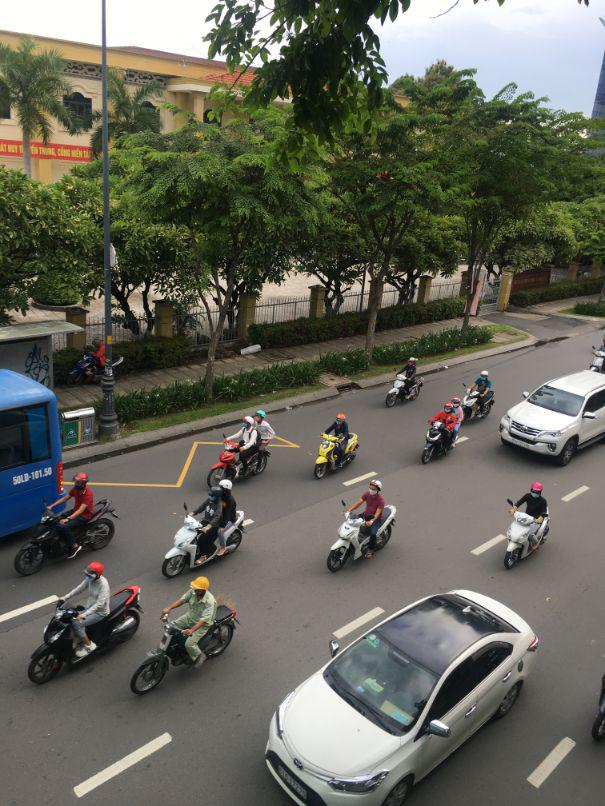bus: (0, 367, 65, 562)
car: (261, 586, 545, 805), (498, 365, 604, 466)
motorbike: (23, 579, 142, 688), (131, 603, 241, 696), (14, 501, 117, 577), (163, 511, 247, 577), (329, 501, 396, 575), (503, 498, 550, 570), (316, 426, 358, 476), (422, 412, 460, 464), (229, 434, 271, 481), (387, 375, 424, 408), (461, 383, 493, 420)
